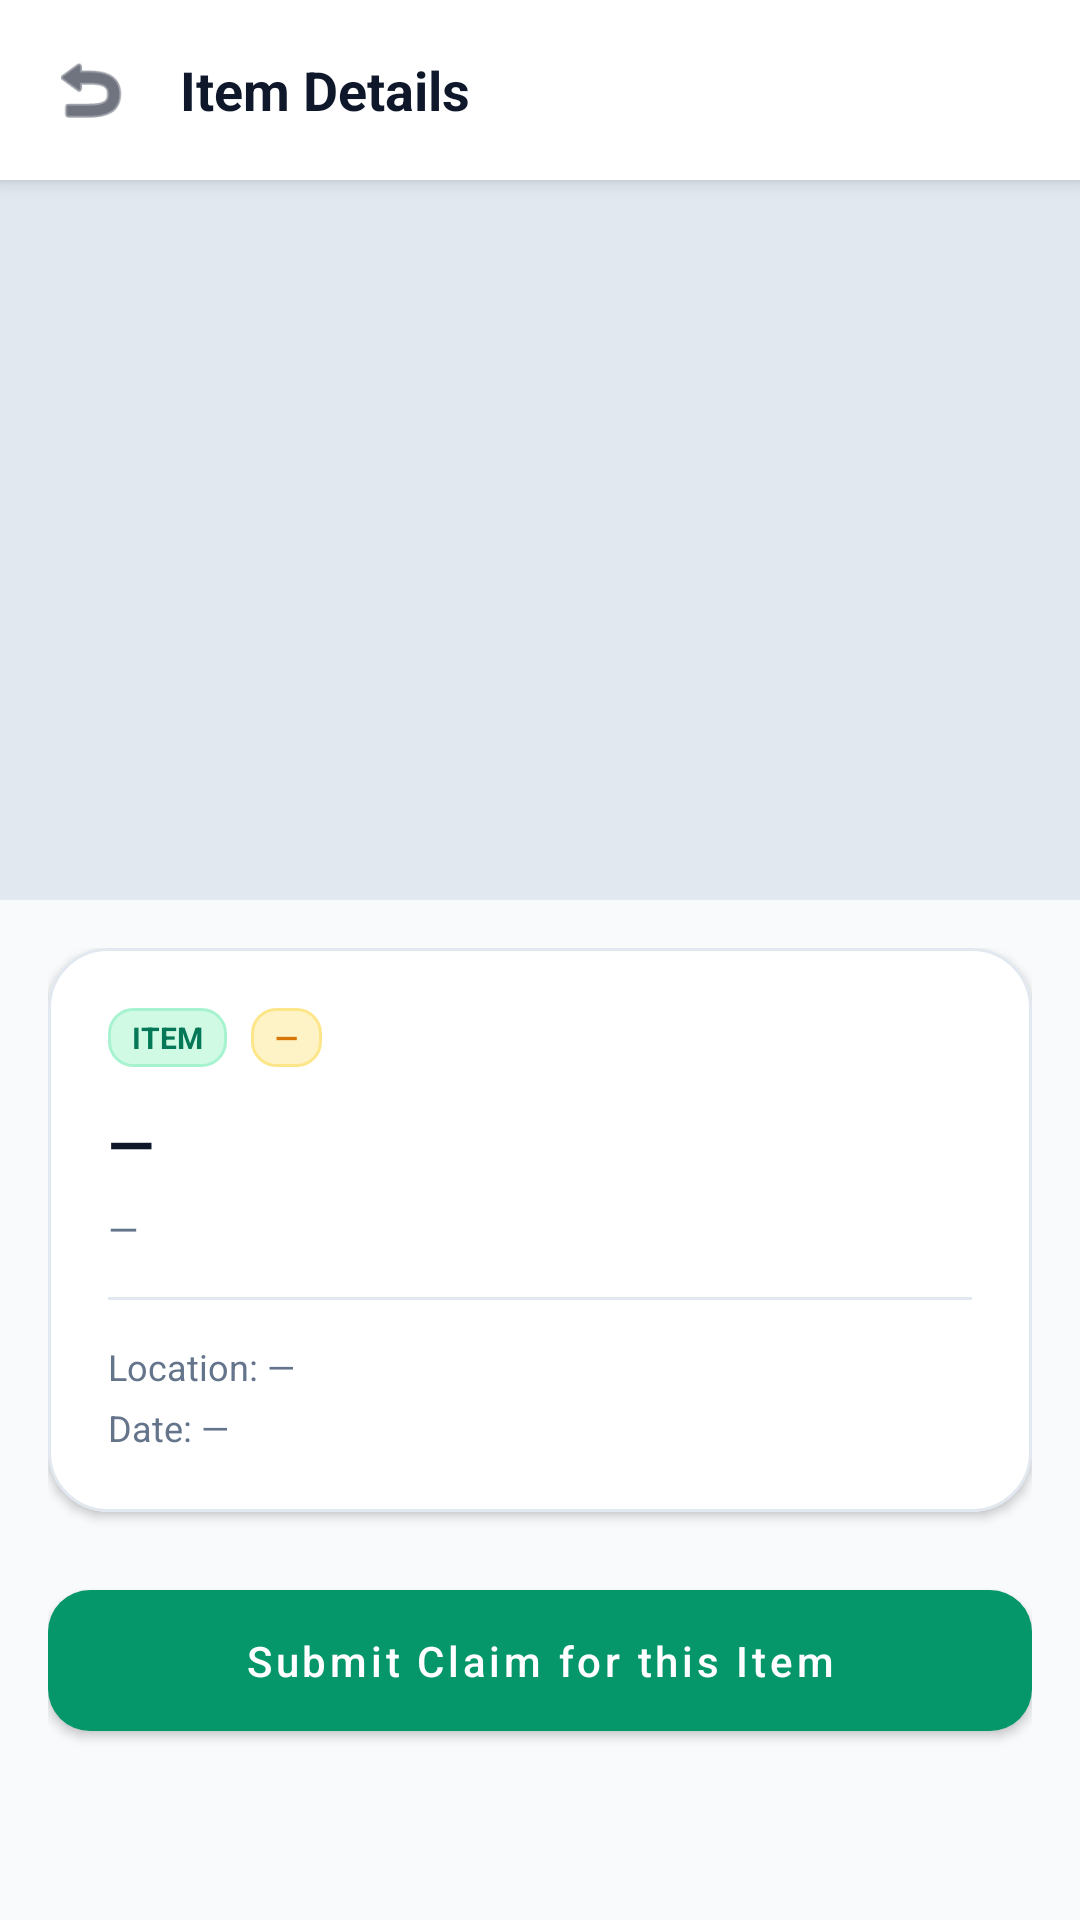

Where to tap for icons on this 1080*1920 app screen, as [x,y]:
revert: [91,90]
